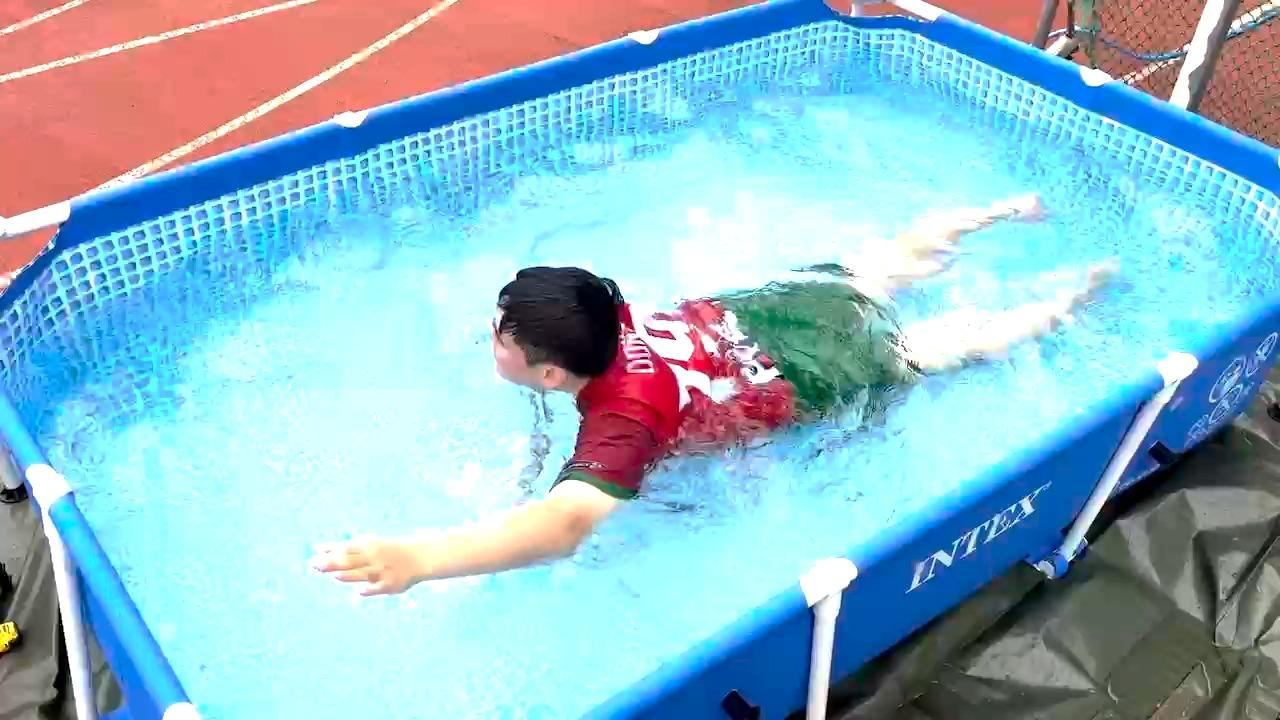Swimming: (264, 126, 1183, 633)
